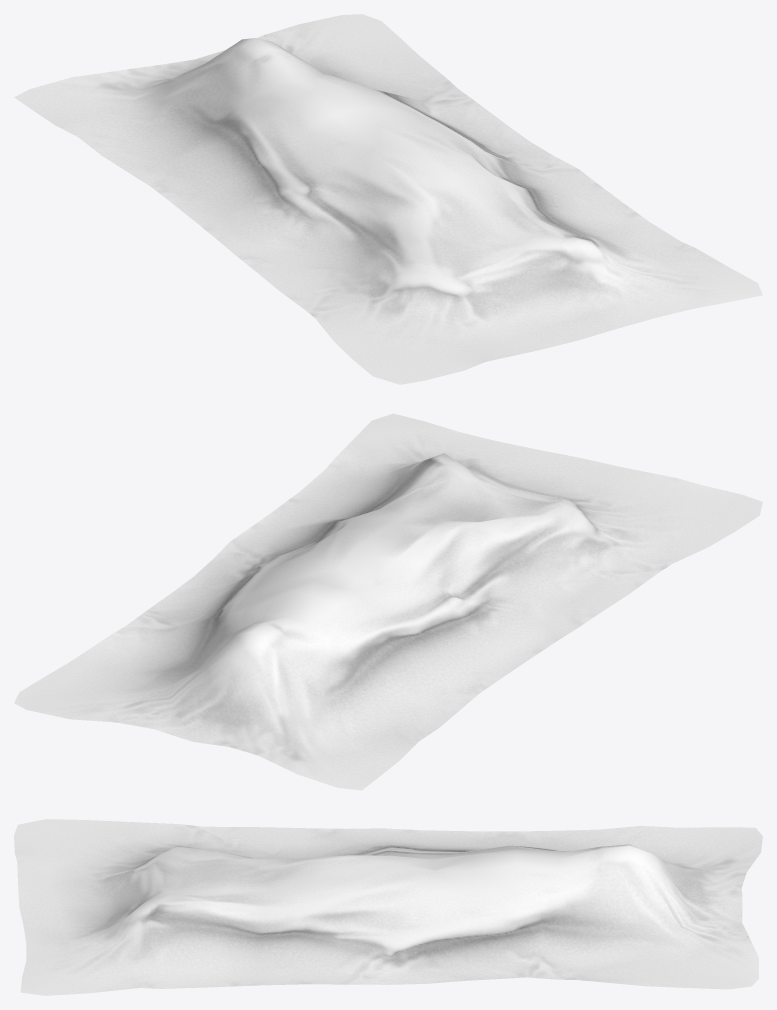
The model's file is DeadBody.fbx.
3 views of the same model, one above another, from view 1: azimuth 30°, elevation 25°; view 2: azimuth 150°, elevation 25°; view 3: azimuth 270°, elevation 25° (orthographic). The views are drawn at different scales.
Visible parts, largest first — view 1: deadbody; view 2: deadbody; view 3: deadbody.
Boxes of the visible parts, box(x1,y1,x2,y2) form: deadbody: box(14, 14, 762, 384); deadbody: box(14, 413, 762, 790); deadbody: box(14, 819, 762, 995).
Bounding box in the file's own units: 161 × 26.23 × 288.
